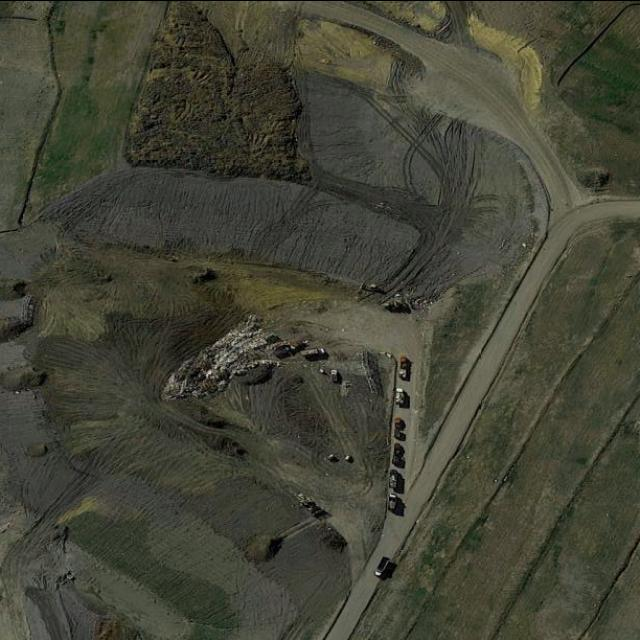dump_site: (148, 313, 300, 420)
